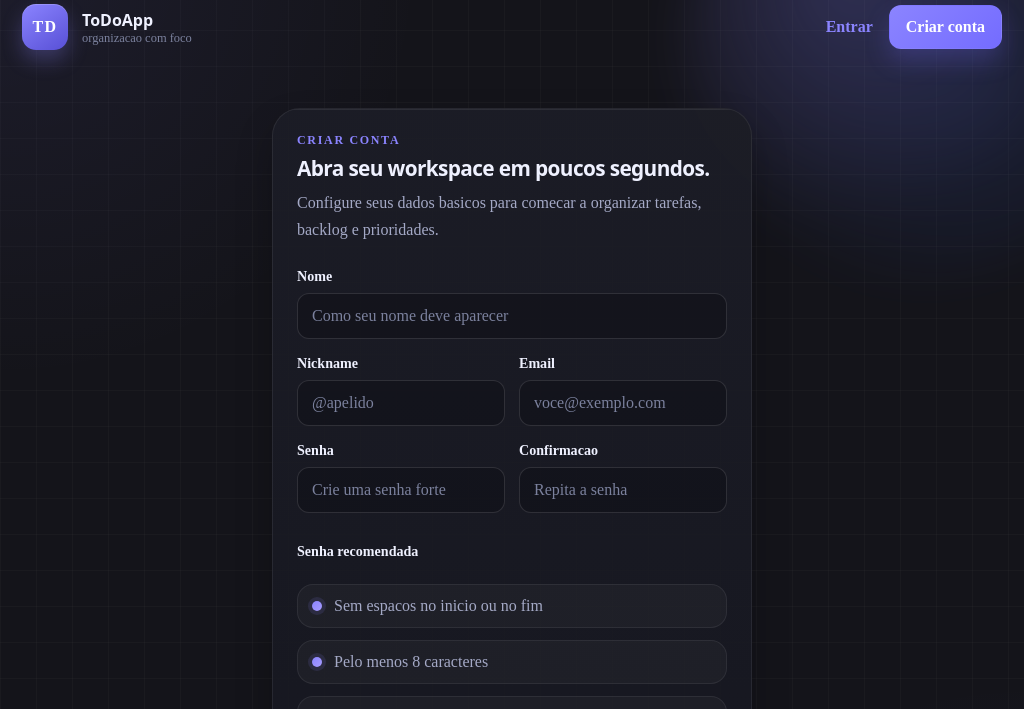
Test: App smoke flows › submits the register flow and opens the dashboard
Check: the heading "Abra seu workspace em poucos segundos." is shown, box x1=297 y1=158 x2=727 y2=179
In the field labelled "Nome": (512, 316) x1=297 y1=293 x2=727 y2=339, type "Teste QA"
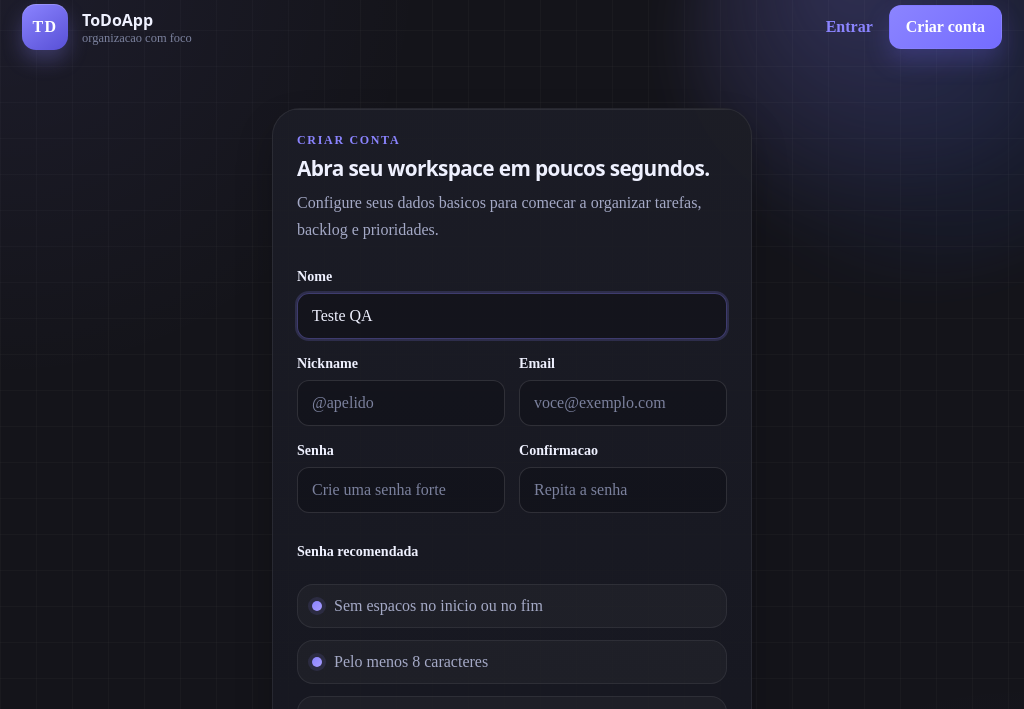
In the field labelled "Nickname": (401, 403) x1=297 y1=380 x2=505 y2=426, type "teste-qa"
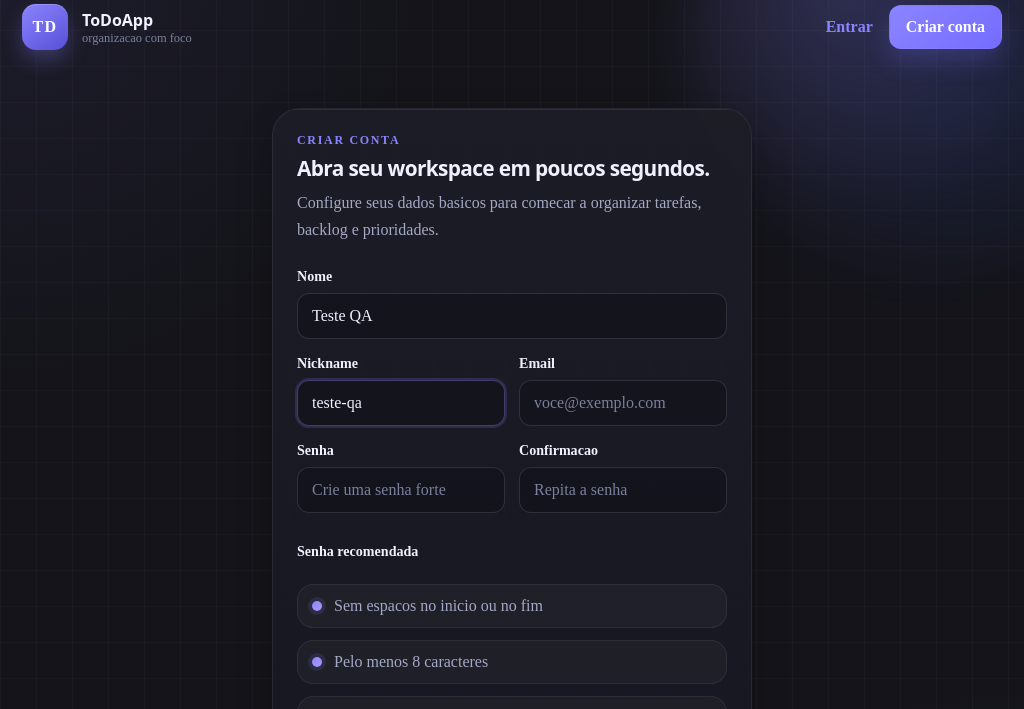
In the field labelled "Email": (623, 403) x1=519 y1=380 x2=727 y2=426, type "teste@example.com"
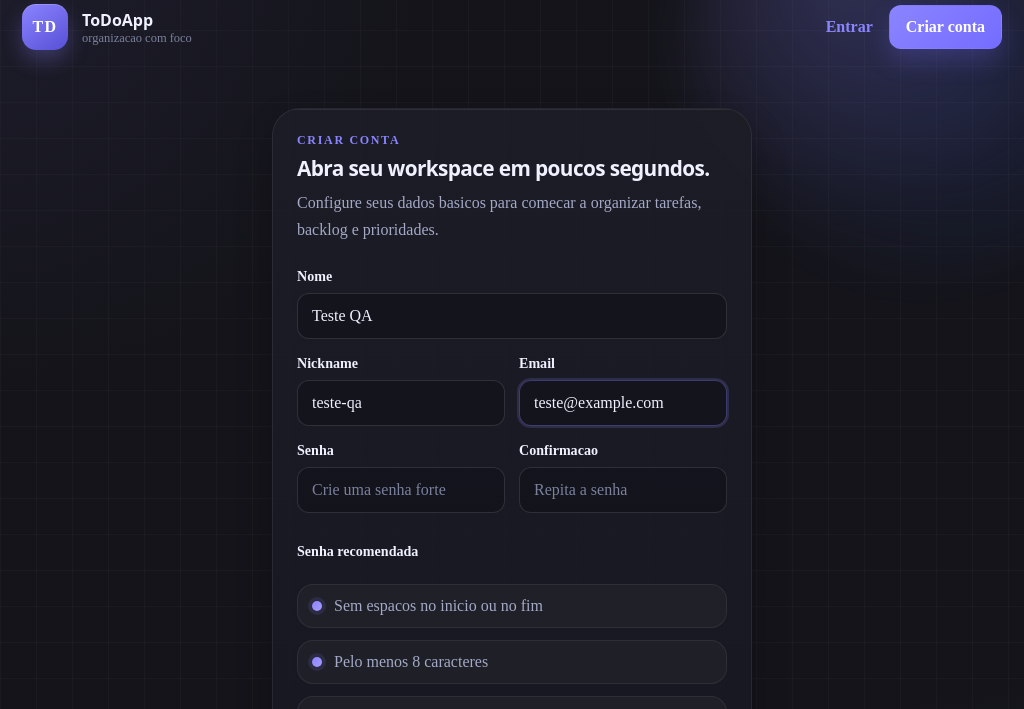
In the password field labelled "Senha": (401, 490) x1=297 y1=467 x2=505 y2=513, type "Teste123!"
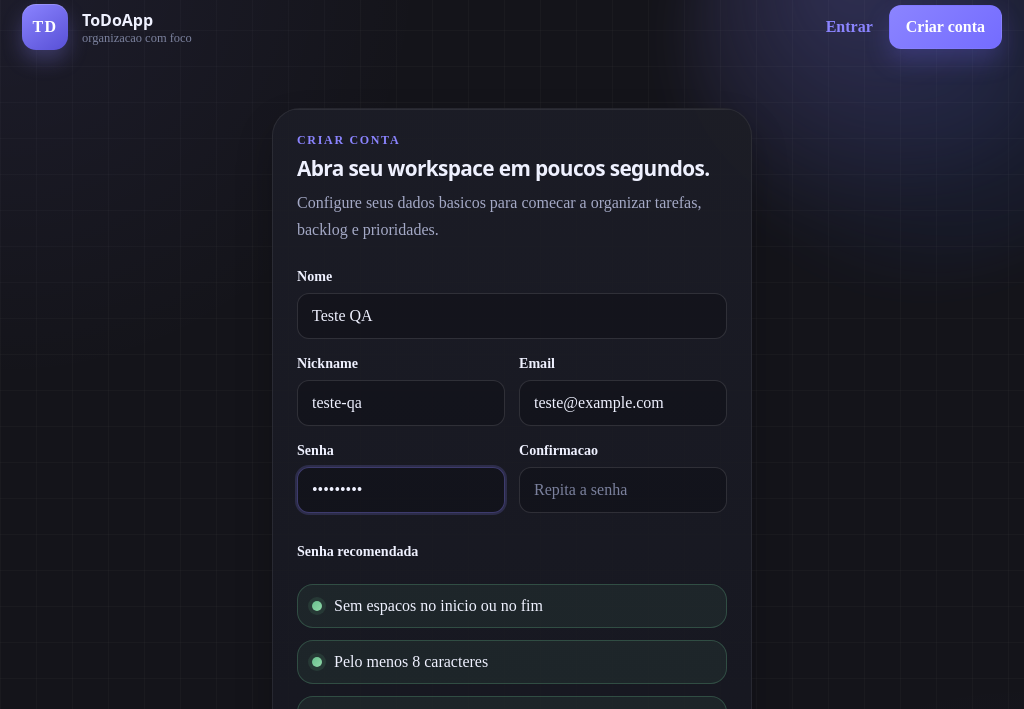
In the password field labelled "Confirmacao": (623, 490) x1=519 y1=467 x2=727 y2=513, type "Teste123!"
(page scrolled)
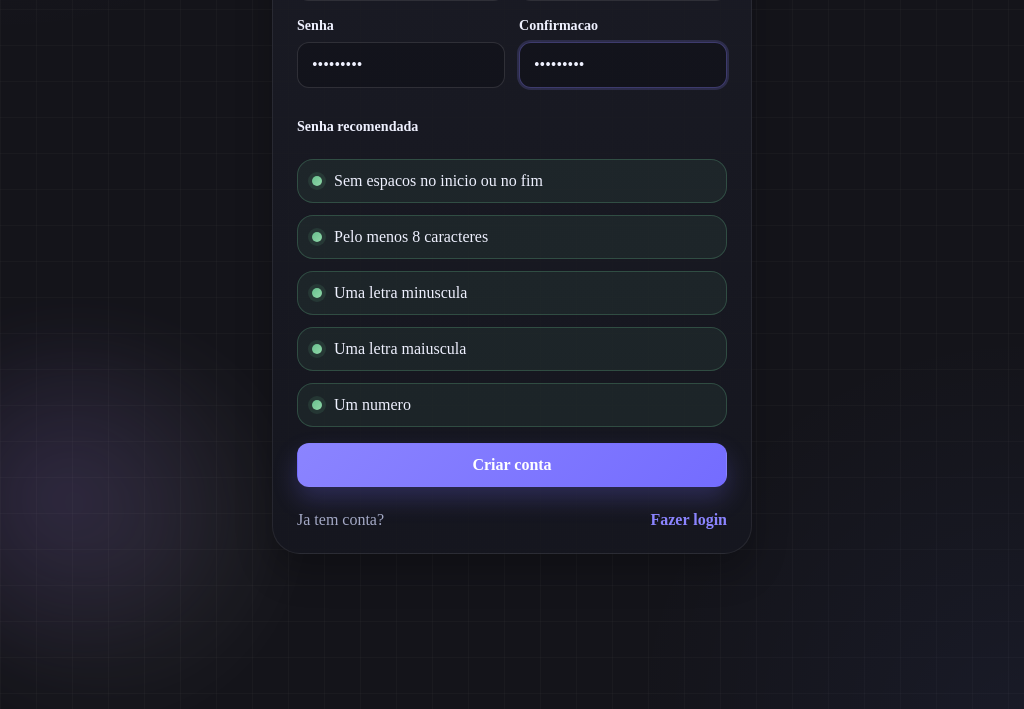
Click the button "Criar conta": (512, 465) x1=297 y1=443 x2=727 y2=487
(page scrolled)
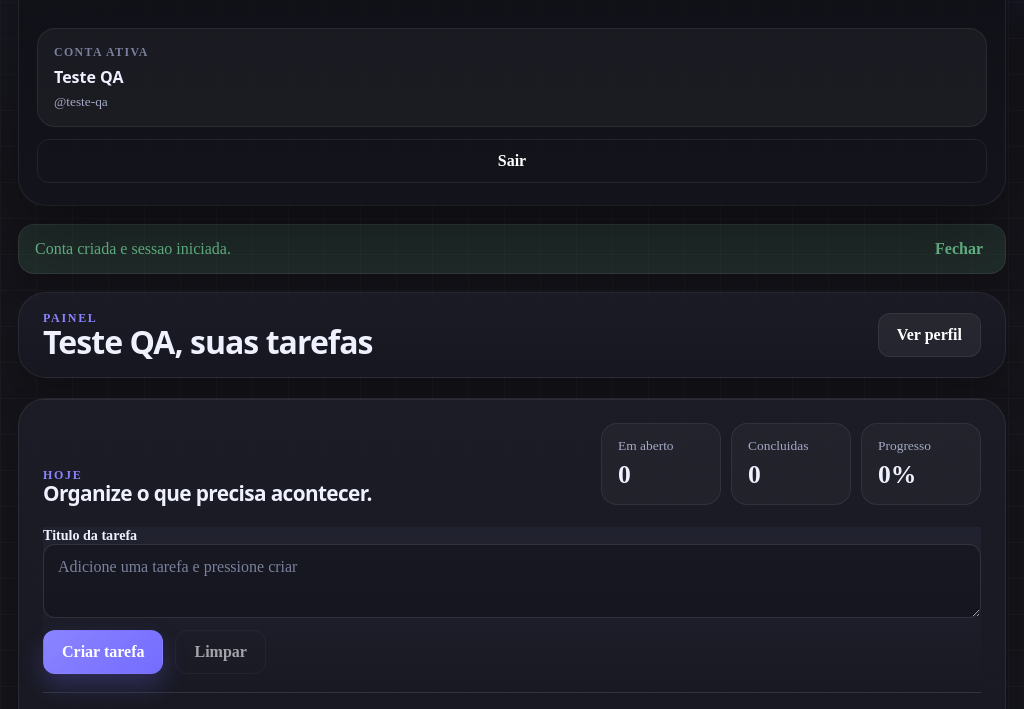
Check: the text "Conta criada e sessao iniciada." is shown, box x1=35 y1=240 x2=231 y2=258
Check: the heading "Teste QA, suas tarefas" is shown, box x1=43 y1=326 x2=373 y2=359
